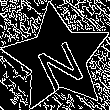N_NW: (29, 27, 86, 90)
